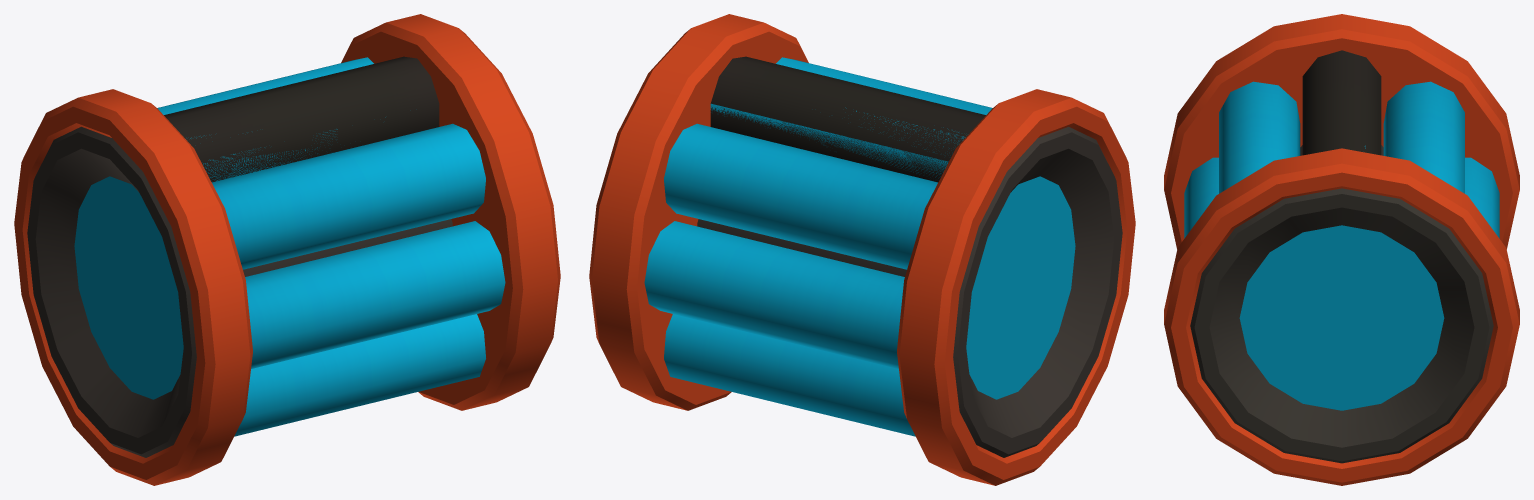
Rendered from SMG4_MagazineExtended.fbx.
3 views of the same model, side by side, from view 1: azimuth 30°, elevation 25°; view 2: azimuth 150°, elevation 25°; view 3: azimuth 270°, elevation 25° (orthographic). The views are drawn at different scales.
Parts seen in each view (by area): view 1: SMG4_MagazineExtended; view 2: SMG4_MagazineExtended; view 3: SMG4_MagazineExtended.
Boxes of the visible parts, left/top/right/bottom form: SMG4_MagazineExtended: left=14, top=14, right=560, bottom=485; SMG4_MagazineExtended: left=589, top=14, right=1135, bottom=485; SMG4_MagazineExtended: left=1164, top=14, right=1519, bottom=485.
Size of the model in its own units: 6.4 by 6.2 by 6.2.
